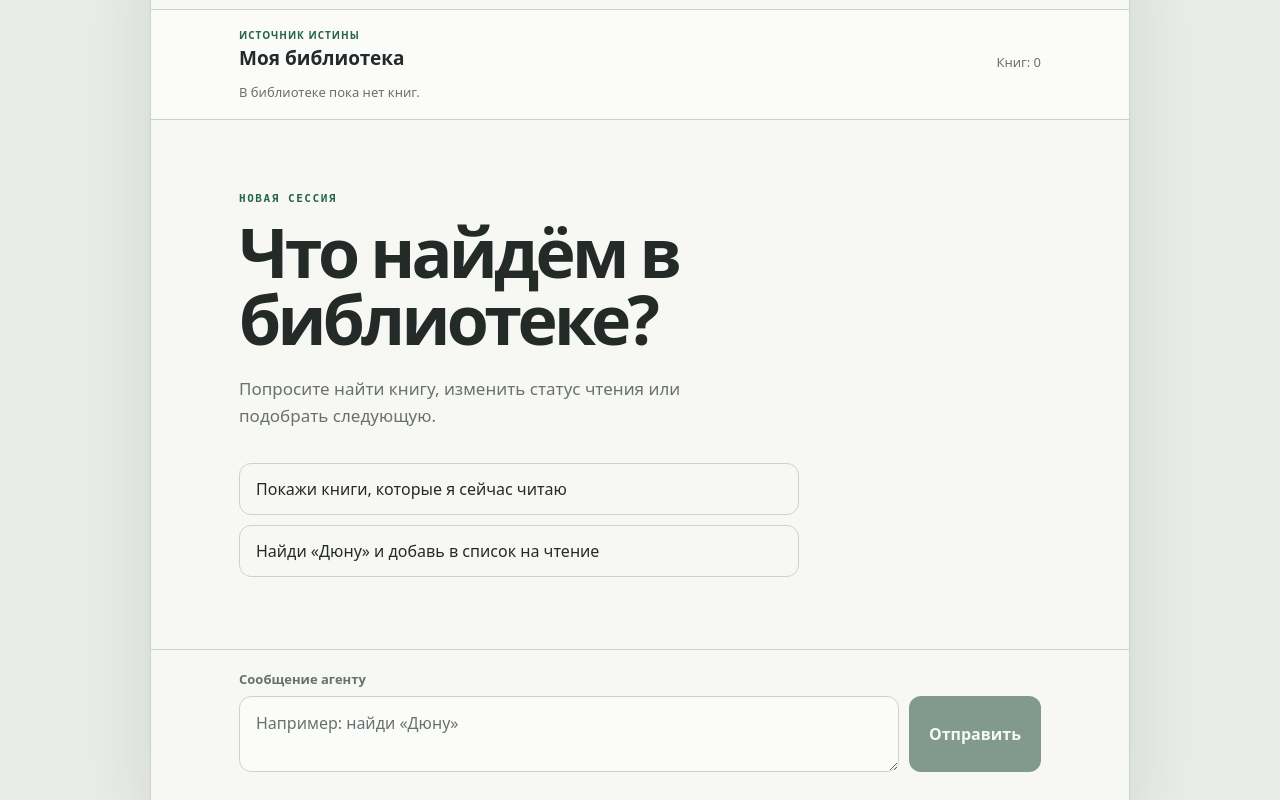
Book Agent chat › sends a message and preserves the completed scenario
This screenshot has width=1280, height=800.
(page scrolled)
In the text box labelled "Сообщение агенту": (569, 734) [239,696,899,772], type "Найди Дюну"
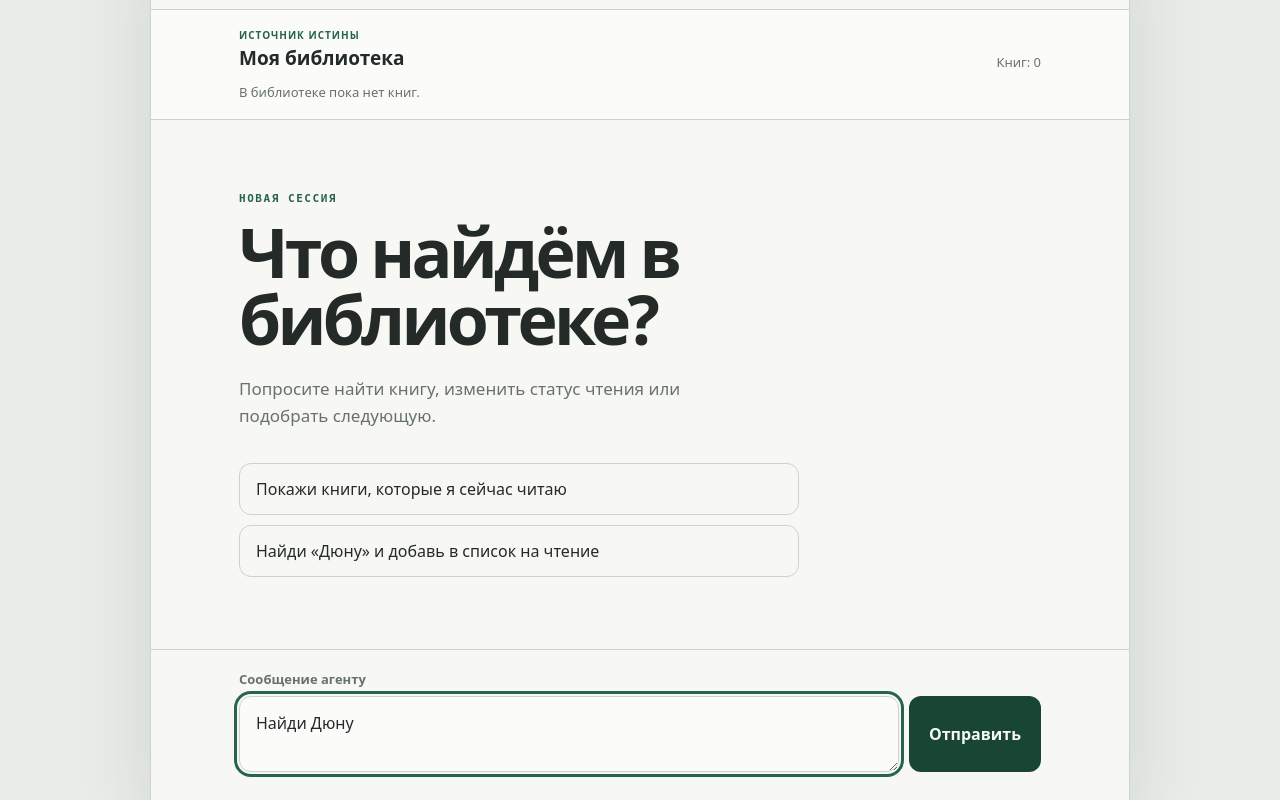
Click the button "Отправить": (975, 734) [909,696,1041,772]
(page scrolled)
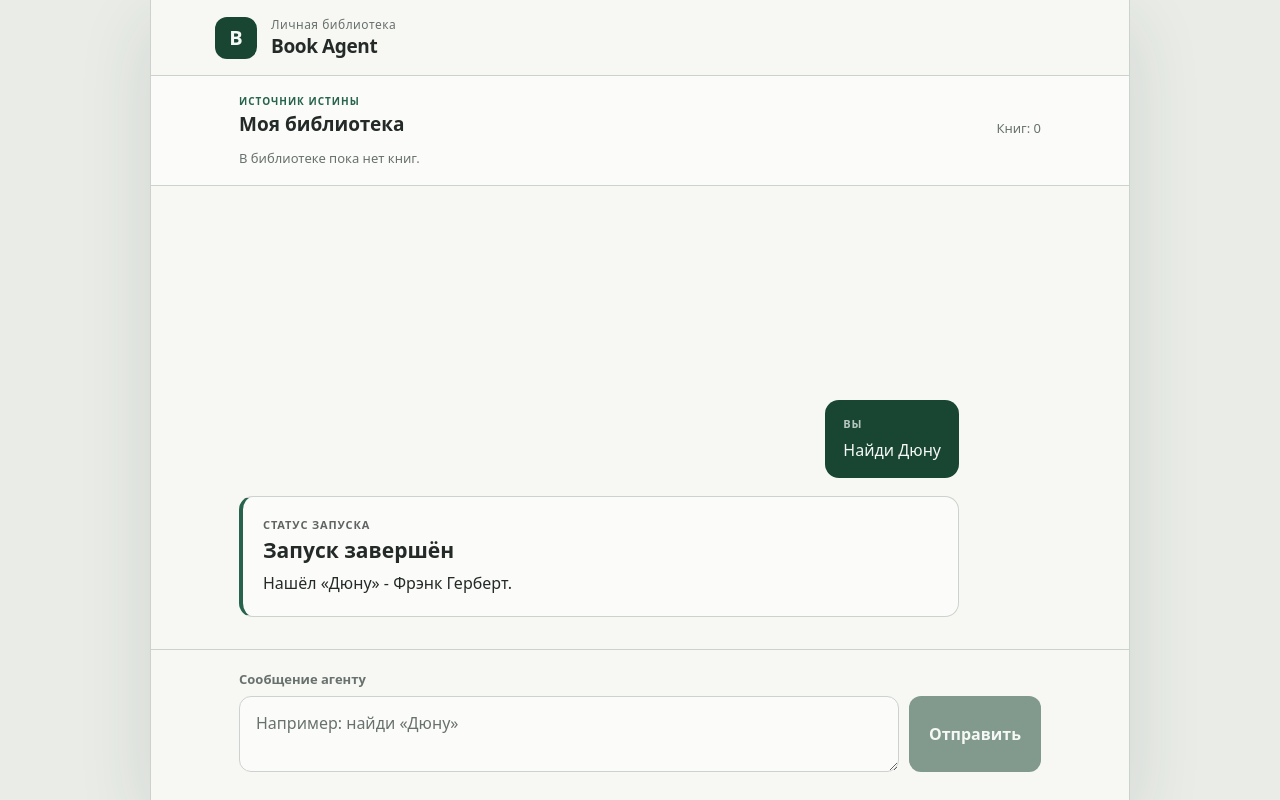
Expected: the heading "Запуск завершён" is shown, [263,536,454,564]
Expected: the text "Нашёл «Дюну» - Фрэнк Герберт." is shown, [263,572,512,594]
